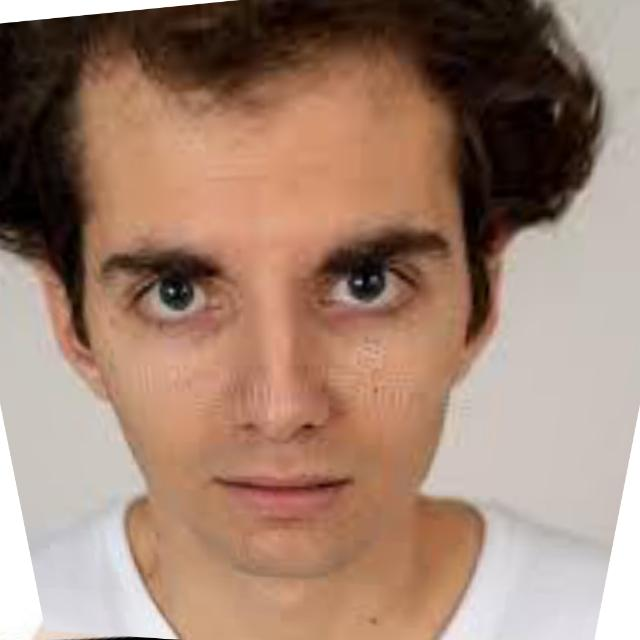Natural: (49, 132, 588, 585)
